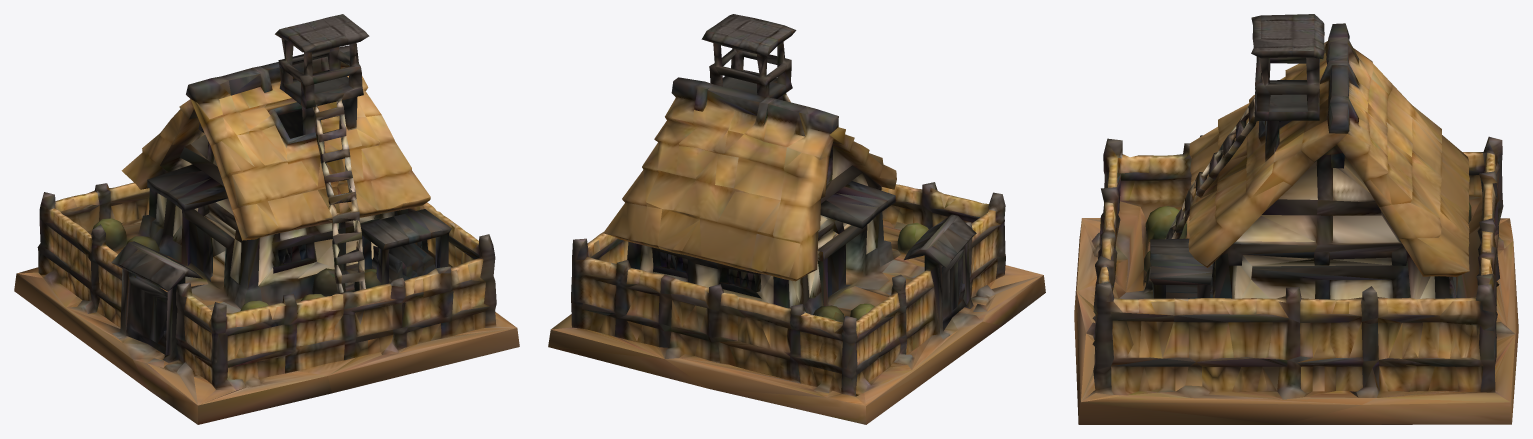
The model's file is hideout_t3.glb.
The picture shows the model from 3 angles, left to right: view 1: azimuth 30°, elevation 25°; view 2: azimuth 150°, elevation 25°; view 3: azimuth 270°, elevation 25°; orthographic projection. The views are drawn at different scales.
Parts seen in each view (by area): view 1: tripo_node_449f7ee6-671d-49b3-bcd7-056af89721e3; view 2: tripo_node_449f7ee6-671d-49b3-bcd7-056af89721e3; view 3: tripo_node_449f7ee6-671d-49b3-bcd7-056af89721e3.
Part boxes in pixels (left/top/right/bottom): tripo_node_449f7ee6-671d-49b3-bcd7-056af89721e3: left=14, top=14, right=519, bottom=424; tripo_node_449f7ee6-671d-49b3-bcd7-056af89721e3: left=548, top=14, right=1045, bottom=424; tripo_node_449f7ee6-671d-49b3-bcd7-056af89721e3: left=1074, top=14, right=1518, bottom=424.
Size of the model in its own units: 0.9805 by 0.8004 by 0.9779.
Materials: 1 (1 with a texture image).
